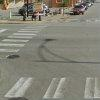Crosswalk: (15, 68, 99, 99)
